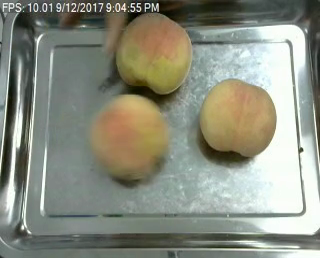Peach: (88, 93, 167, 181), (118, 10, 192, 92), (199, 80, 276, 157)
